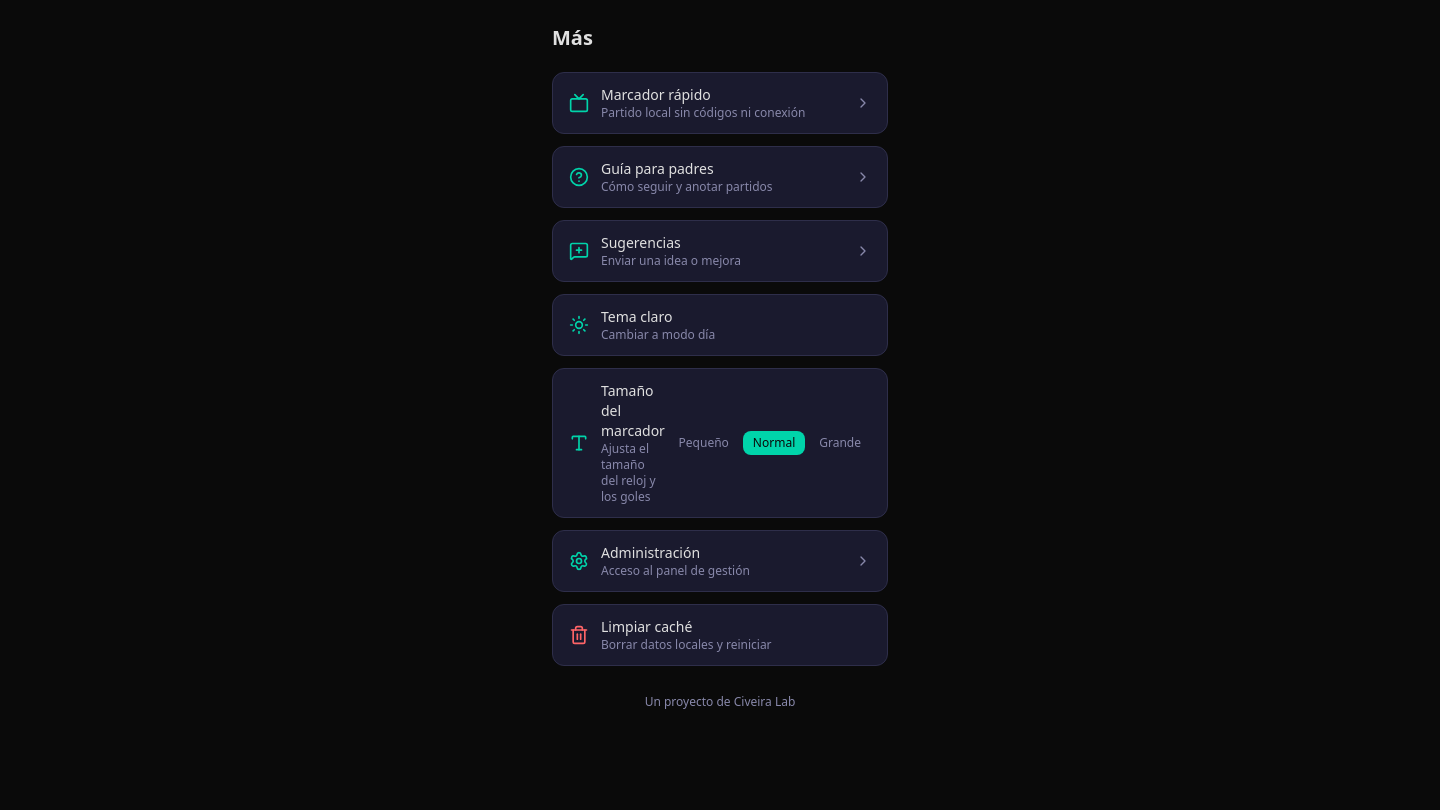
Test: MoreTab › shows confirmation dialog when Limpiar caché is clicked
Click the button "Limpiar caché Borrar datos locales y reiniciar" at (720, 635), box [552, 604, 888, 666]
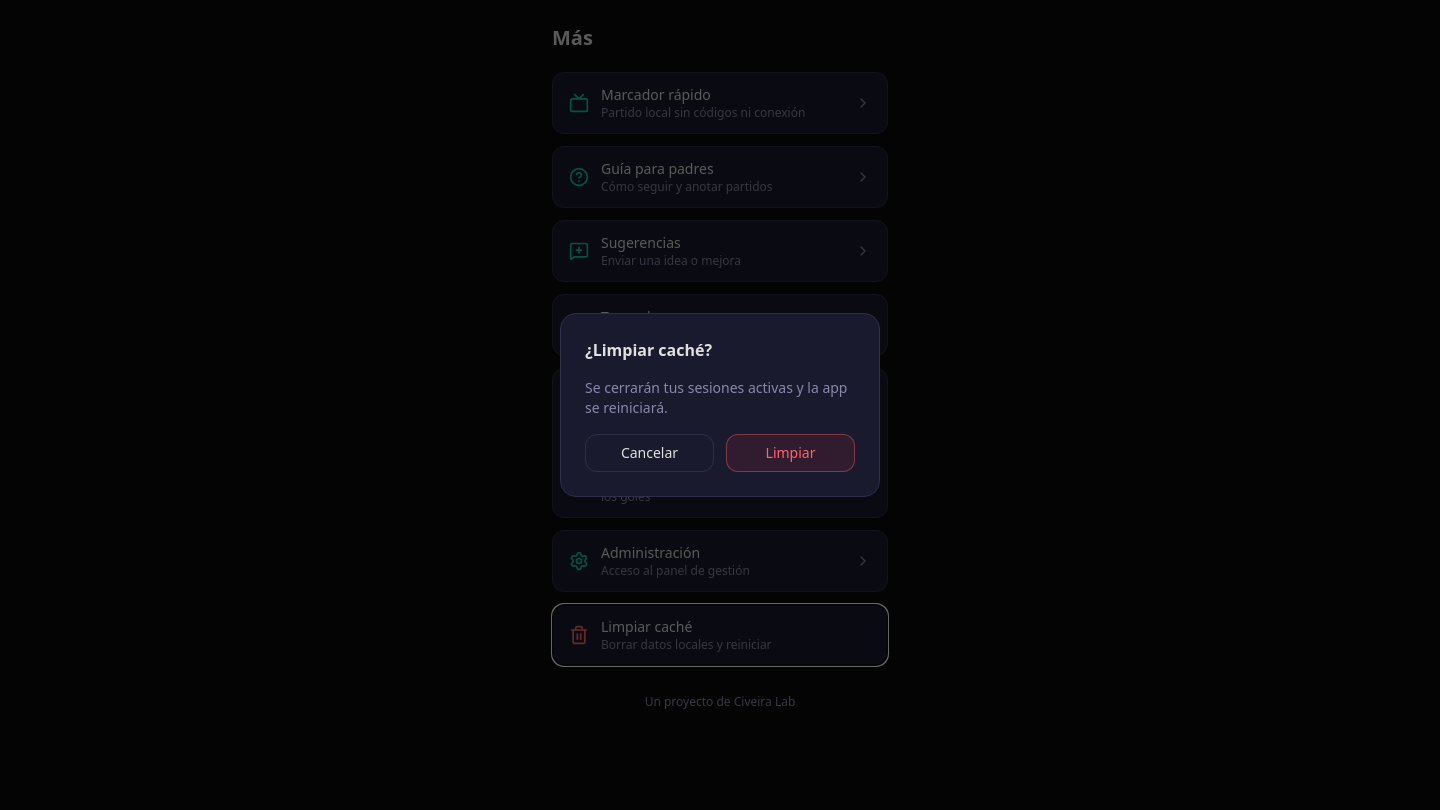
expect the dialog is shown: met
expect the text "Se cerrarán tus sesiones activas y la app se reiniciará." is shown: met, box [585, 378, 855, 418]
